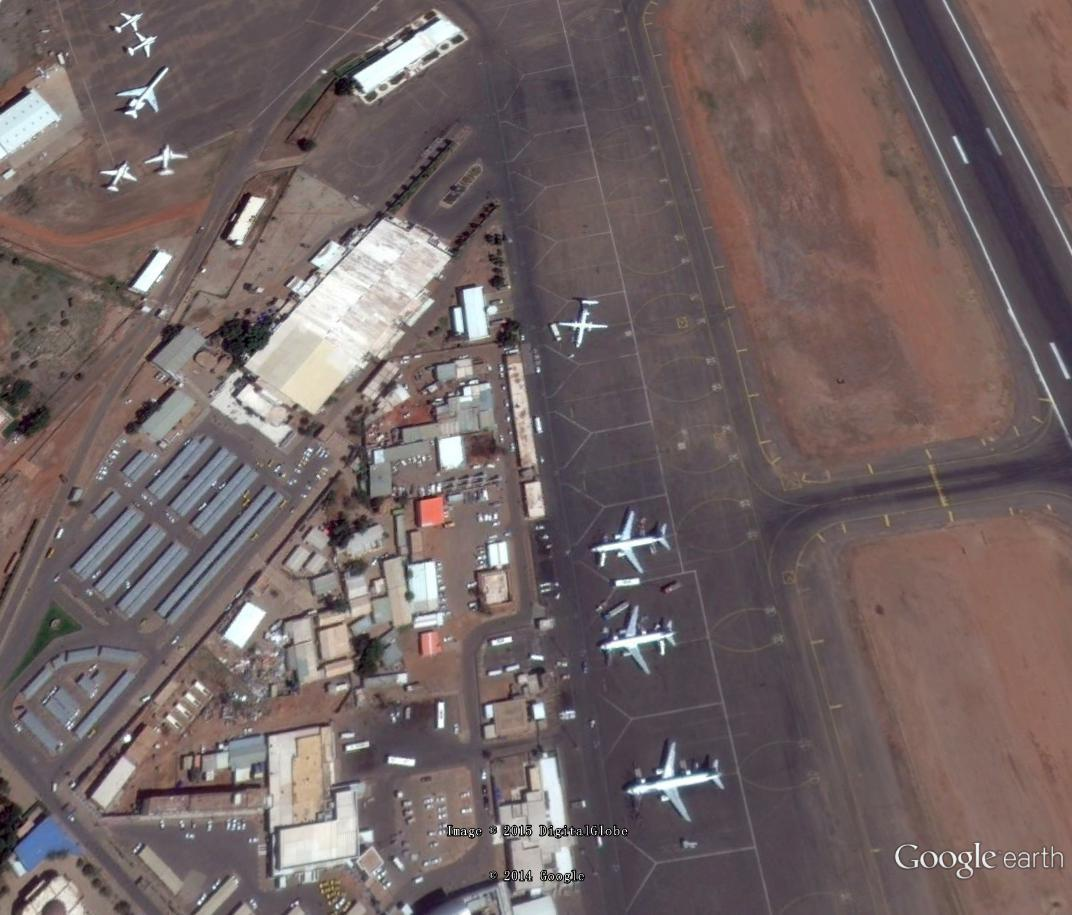aircraft: (622, 738, 733, 825), (593, 598, 681, 682), (586, 507, 681, 579), (113, 63, 175, 124), (553, 295, 615, 355), (140, 139, 194, 180), (97, 157, 143, 196), (124, 31, 161, 64), (109, 7, 146, 37)
